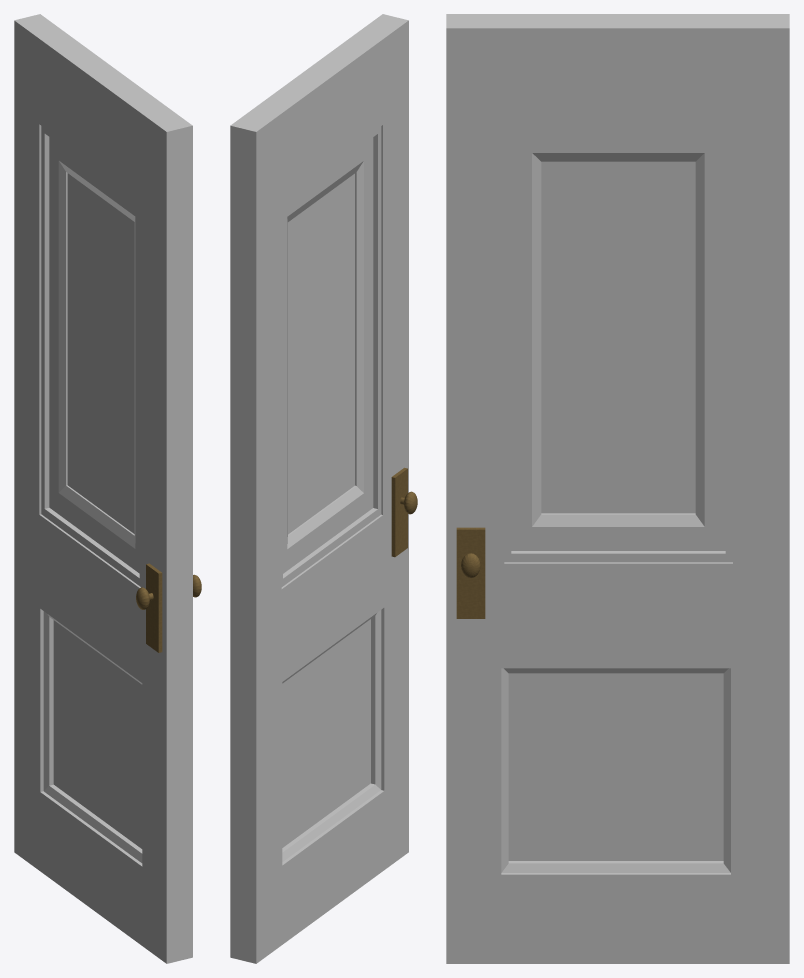
File: SM_WD37_DOOR.fbx
3 renders of one model, left to right at view 1: azimuth 30°, elevation 25°; view 2: azimuth 150°, elevation 25°; view 3: azimuth 270°, elevation 25°, orthographic. The views are drawn at different scales.
Visible parts, largest first — view 1: SM_WD37_DOOR; view 2: SM_WD37_DOOR; view 3: SM_WD37_DOOR.
Boxes of the visible parts, <box> form: SM_WD37_DOOR: <box>14,14,201,963</box>; SM_WD37_DOOR: <box>230,14,417,963</box>; SM_WD37_DOOR: <box>446,14,789,963</box>.
Bounding box in the file's own units: 20.87 × 88.12 × 265.
